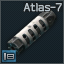AR-10 Odin Works Atlas 7 7.62x51 muzzle brake: (0, 0, 64, 64)
